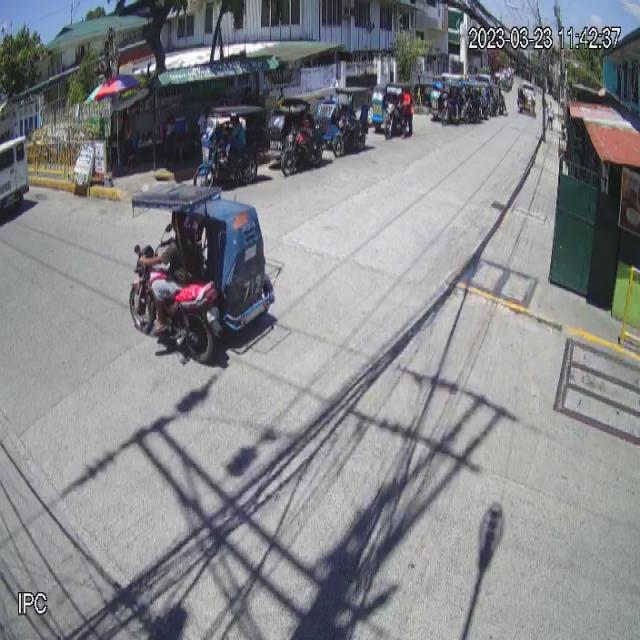Tricycle: (128, 182, 276, 364)
